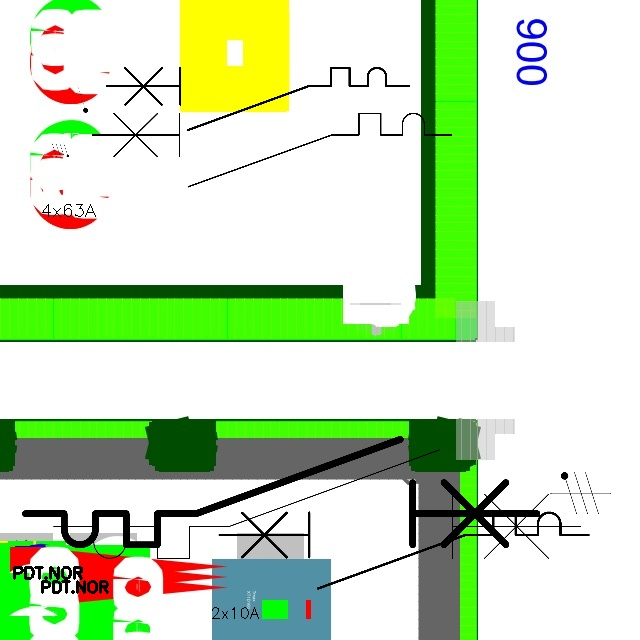interruptor_termomagnetico: (40, 436, 594, 572), (12, 426, 550, 558), (210, 503, 598, 598), (82, 104, 460, 196), (99, 60, 417, 138)
